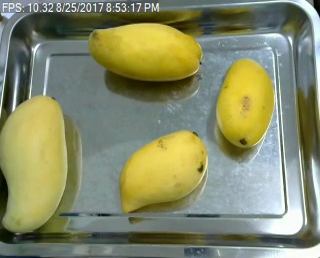Mango: (0, 90, 73, 238), (116, 128, 208, 217), (84, 22, 206, 86), (212, 60, 279, 150)
